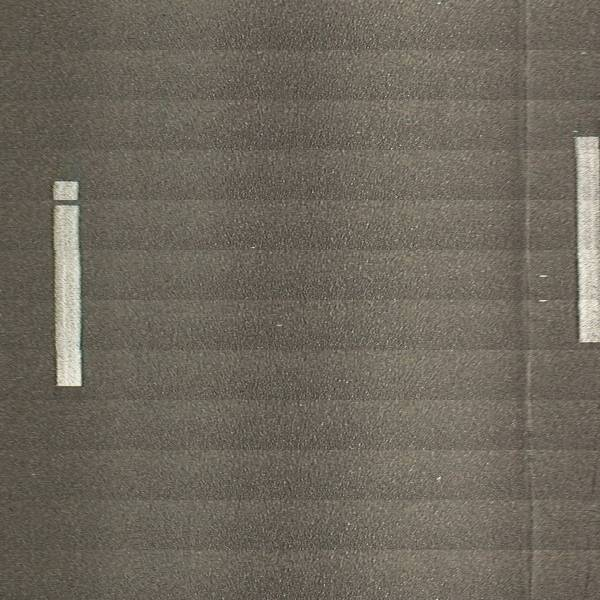road_damage: (513, 14, 541, 600)
